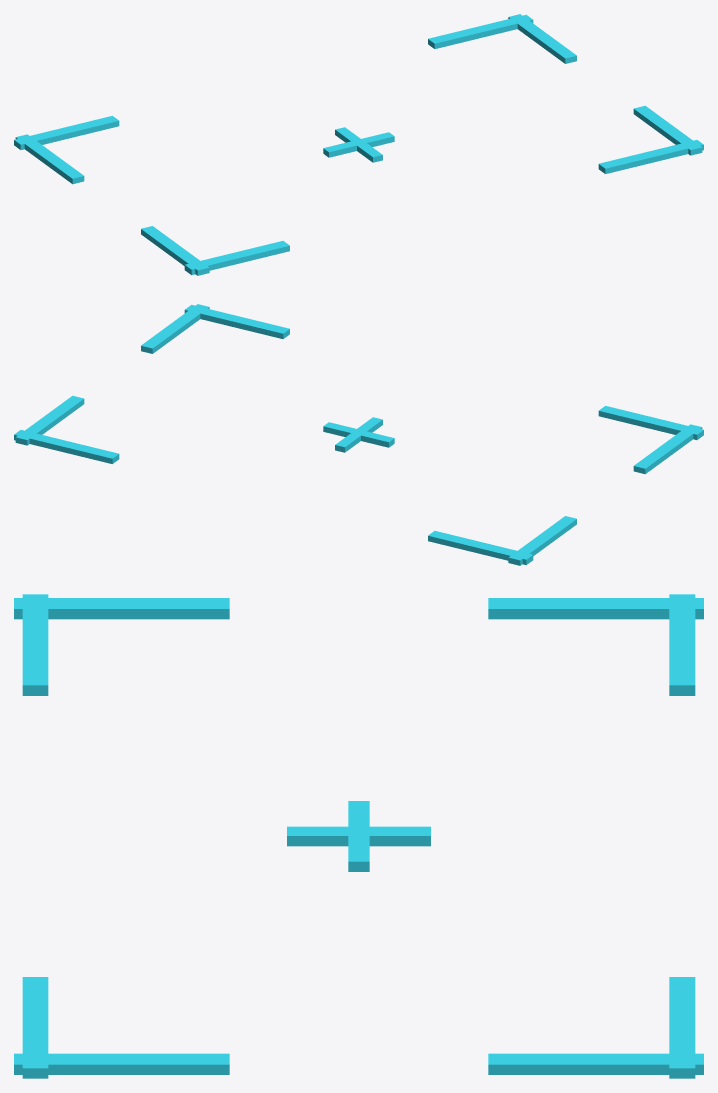
File: jack-placement-marker.glb
The picture shows the model from 3 angles, top to bottom: view 1: azimuth 30°, elevation 25°; view 2: azimuth 150°, elevation 25°; view 3: azimuth 270°, elevation 25°; orthographic projection. The views are drawn at different scales.
Visible parts, largest first — view 1: JackPlacementMarker; view 2: JackPlacementMarker; view 3: JackPlacementMarker.
Part boxes in pixels (<box>): JackPlacementMarker: <box>14,14,703,275</box>; JackPlacementMarker: <box>14,304,703,565</box>; JackPlacementMarker: <box>14,594,703,1078</box>.
Size of the model in its own units: 0.78 by 0.008 by 0.48.
